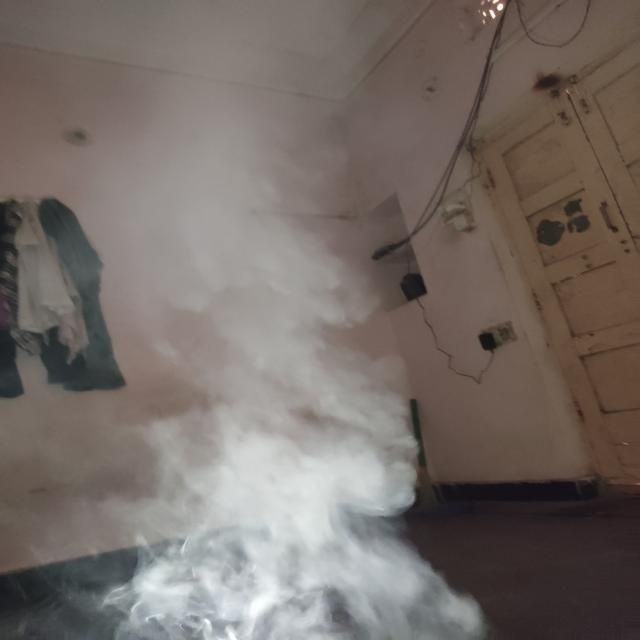smoke: (173, 252, 466, 640)
